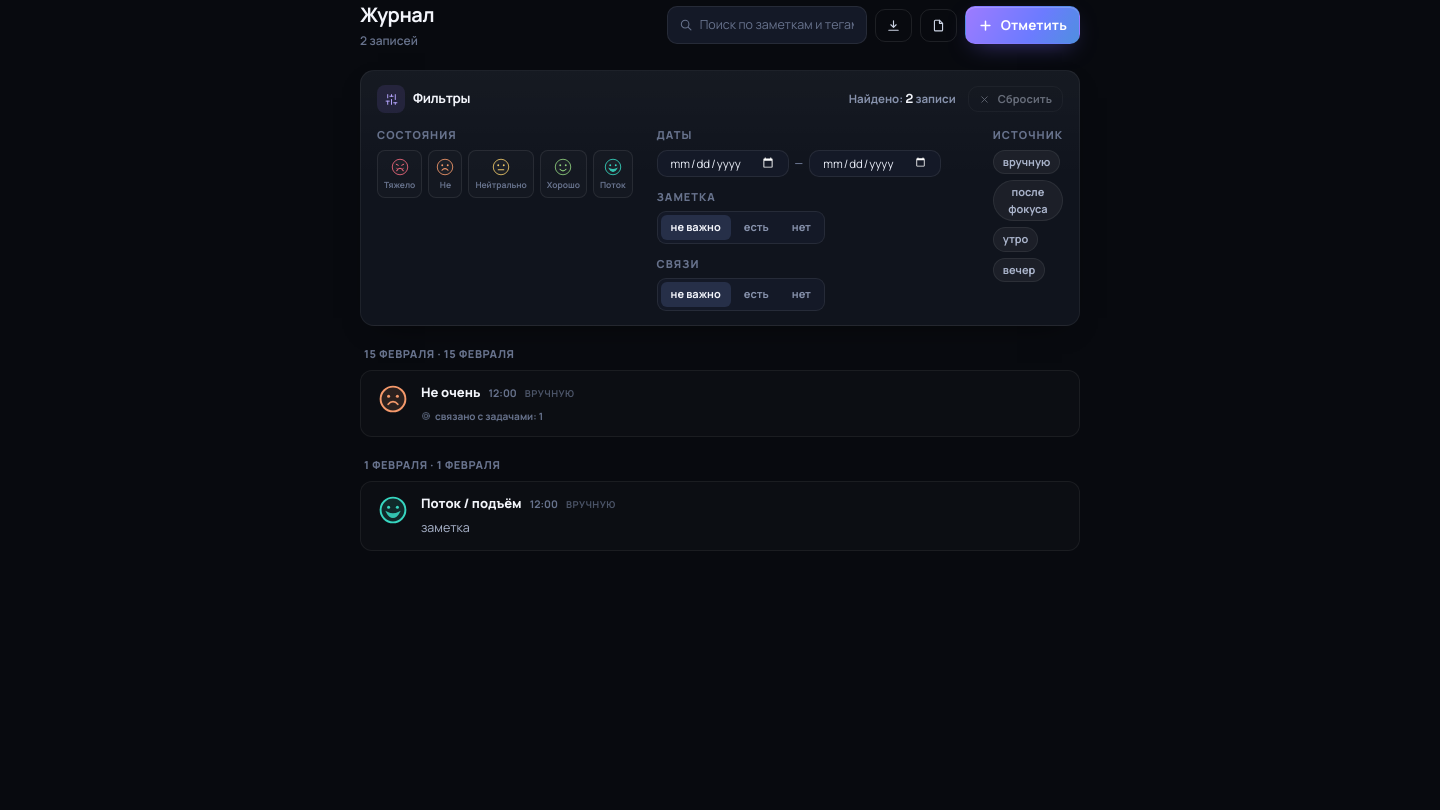
Scenario: Экспорт CSV › показывает сводку с числом записей и периодом ДО выгрузки
Click the button named "Экспорт CSV" at (893, 25), box [875, 8, 912, 42]
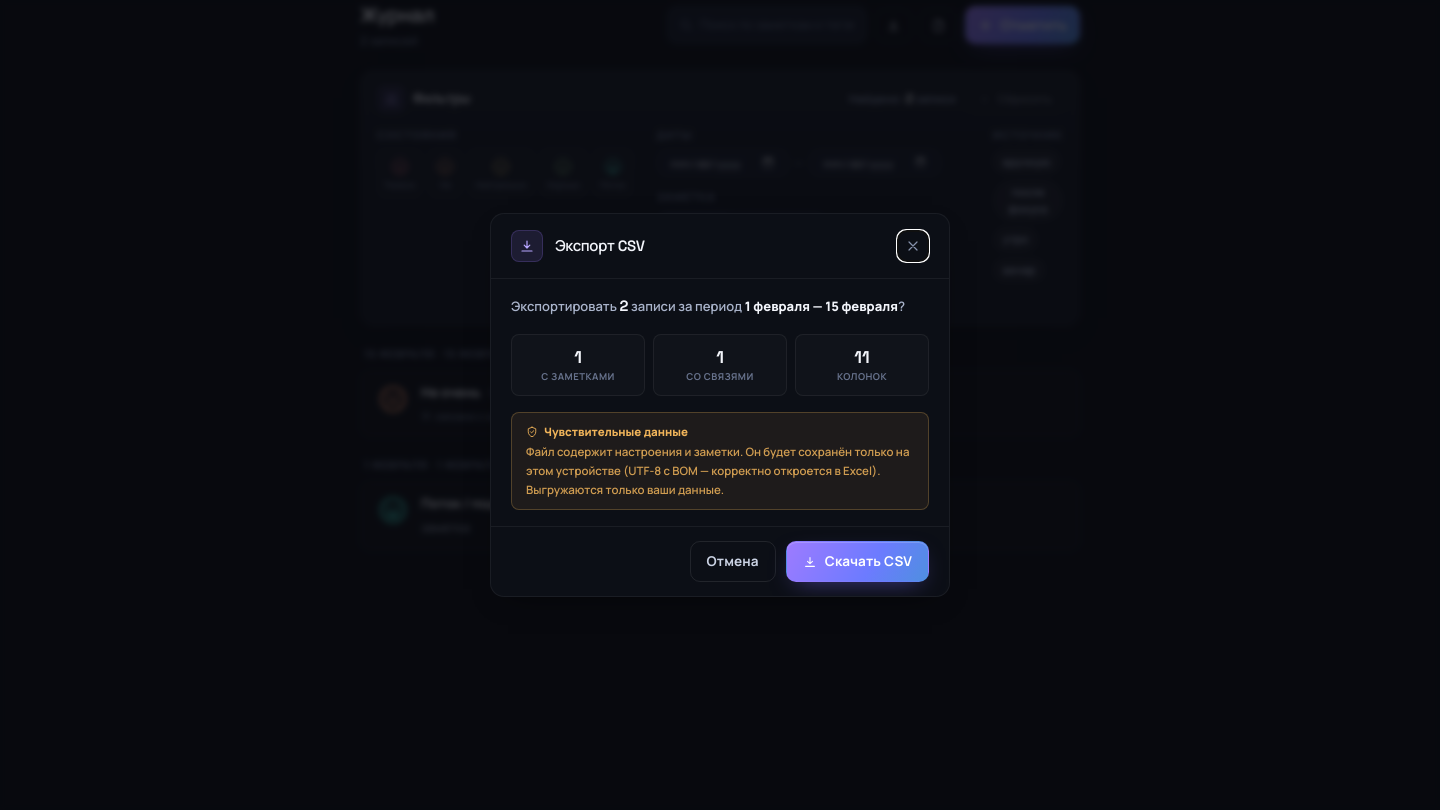
Now the heading "Экспорт CSV" is shown, box [555, 235, 645, 258]
Now the dialog shows "2", box [620, 296, 628, 315]
Now the dialog shows "1 февраля", box [745, 297, 898, 315]
